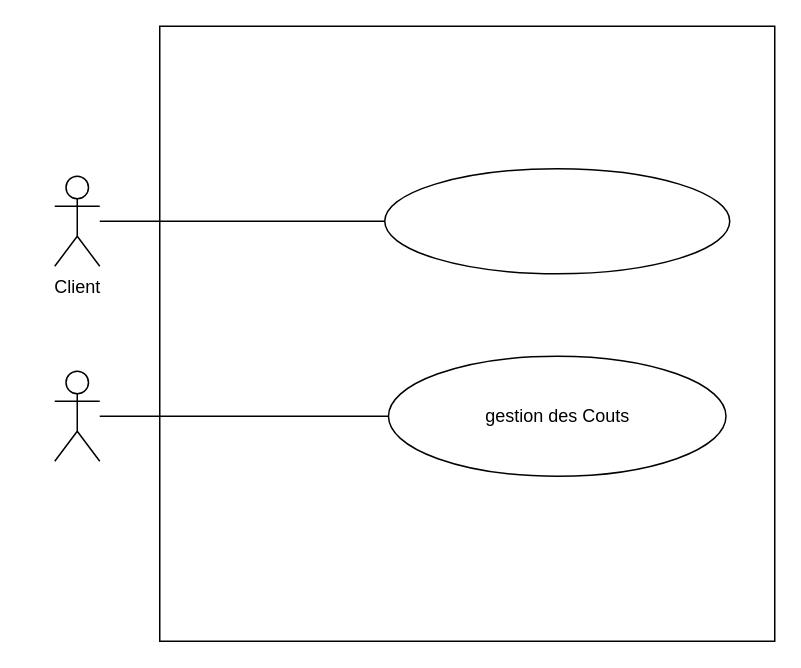
This 801x668 diagram has some shape labels left out. Here are the shapes that lost their labels. From the top down, the box of each, then its label:
(383, 167, 730, 274): Gestion des Prix
(53, 370, 100, 461): Transporteur
